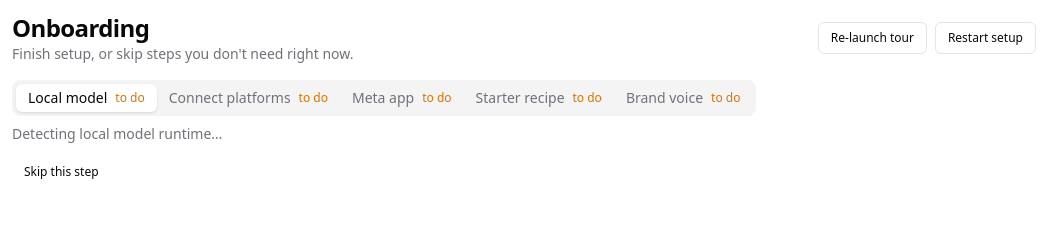
Test: OnboardingPanel › skips a step
Click the button "Skip this step" at {"x": 61, "y": 172}, box [12, 156, 110, 188]
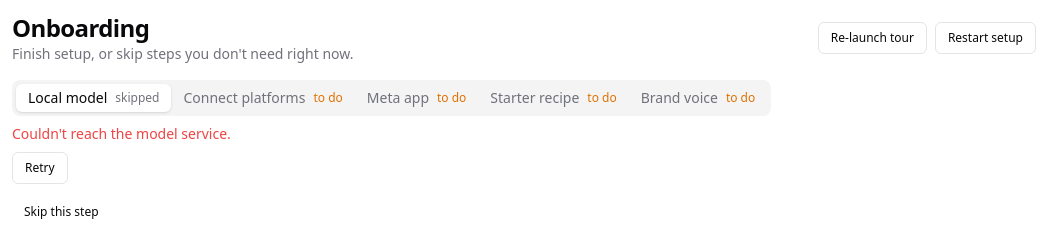
Now the text with test id "status-model" reads "skipped", box [115, 89, 160, 106]
